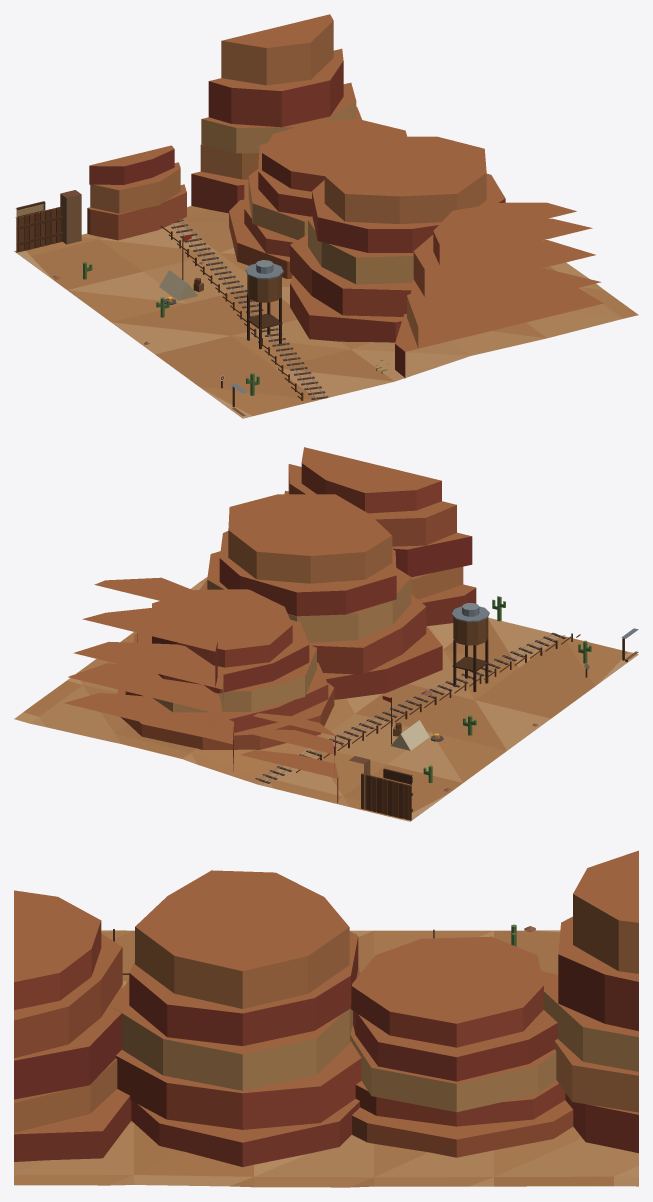
The picture shows the model from 3 angles, top to bottom: view 1: azimuth 30°, elevation 25°; view 2: azimuth 150°, elevation 25°; view 3: azimuth 270°, elevation 25°; orthographic projection. The views are drawn at different scales.
Parts seen in each view (by area): view 1: baked; view 2: baked; view 3: baked.
Boxes of the visible parts, x1,y1,x2,y2 form: baked: (14,14,638,418); baked: (14,447,638,821); baked: (14,850,638,1187).
Bounding box in the file's own units: 62.5 × 24.11 × 62.5.
